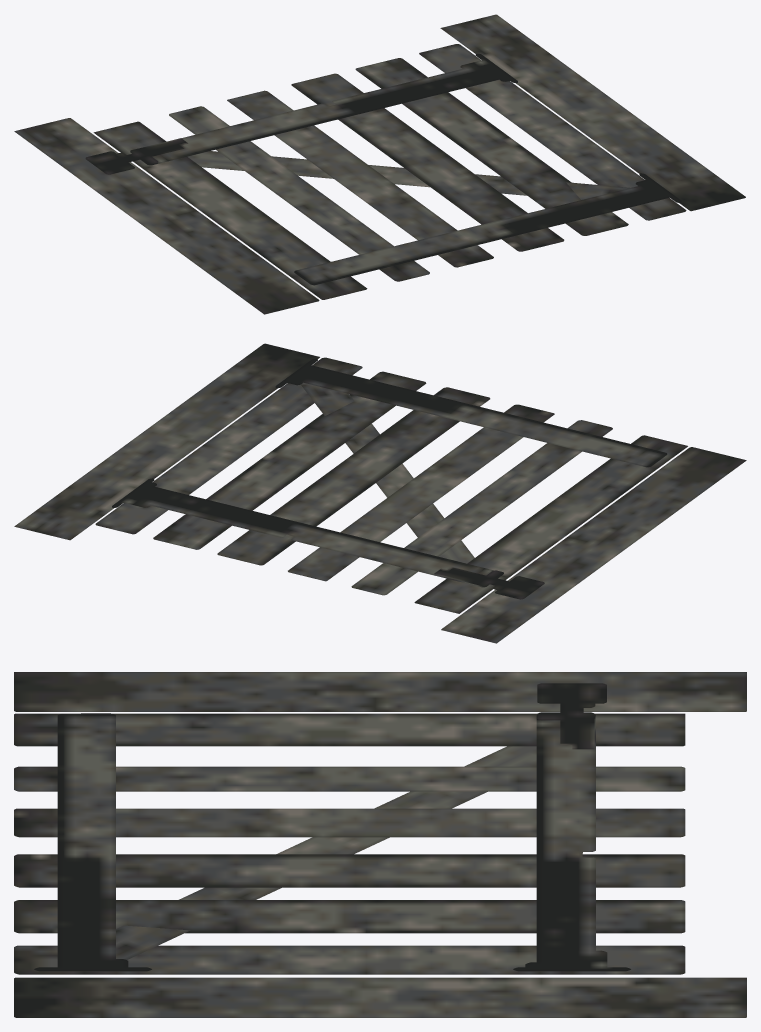
Rendered from SM_EC_Fence_Gate_Card_00.fbx.
3 renders of one model, top to bottom at view 1: azimuth 30°, elevation 25°; view 2: azimuth 150°, elevation 25°; view 3: azimuth 270°, elevation 25°, orthographic. The views are drawn at different scales.
Parts seen in each view (by area): view 1: SM_EC_Fence_Gate_Card_00; view 2: SM_EC_Fence_Gate_Card_00; view 3: SM_EC_Fence_Gate_Card_00.
Boxes of the visible parts, box(x1,y1,x2,y2) form: SM_EC_Fence_Gate_Card_00: box(14, 14, 745, 314); SM_EC_Fence_Gate_Card_00: box(14, 343, 746, 643); SM_EC_Fence_Gate_Card_00: box(14, 672, 746, 1017).
Bounding box in the file's own units: 1.29 × 1.16 × 0.0108.
